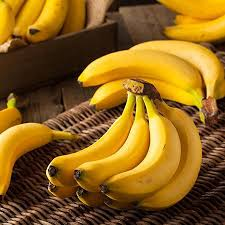banana: (46, 79, 203, 212), (77, 51, 210, 90)
